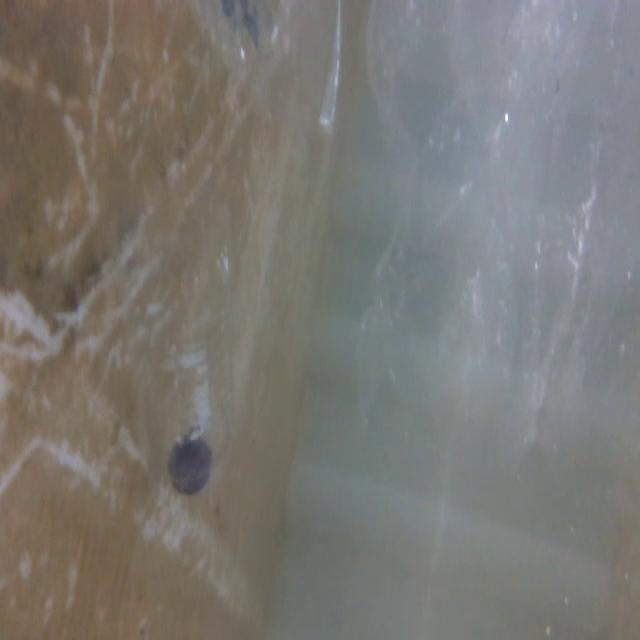plastic bags: (377, 0, 640, 470), (163, 0, 348, 141)
plastic bottle: (102, 150, 254, 530)
